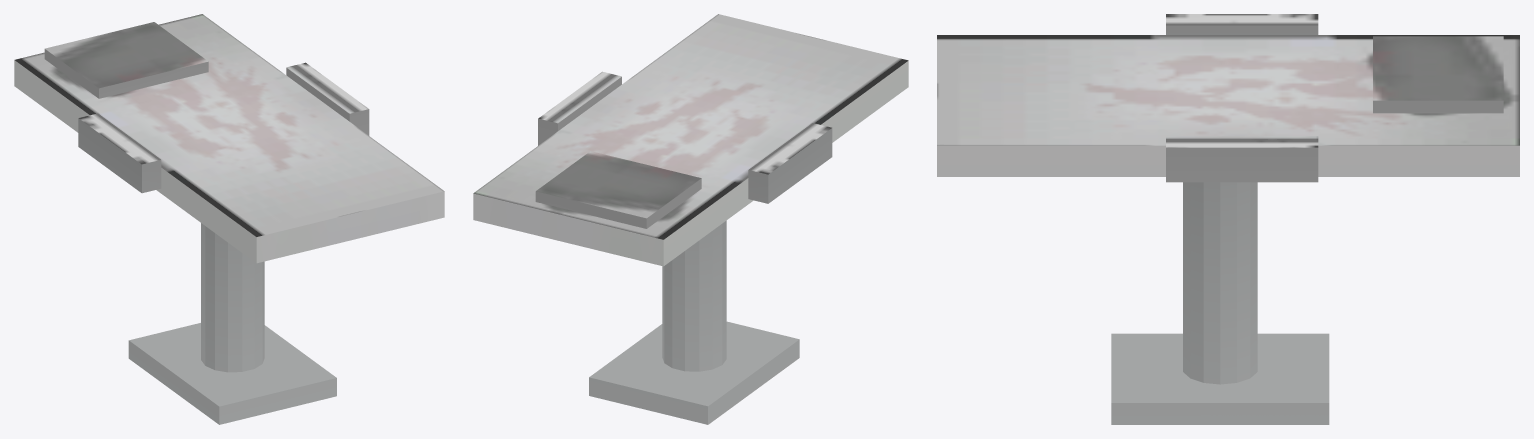
File: Building_AncientOperatingTable.glb
3 views of the same model, side by side, from view 1: azimuth 30°, elevation 25°; view 2: azimuth 150°, elevation 25°; view 3: azimuth 270°, elevation 25° (orthographic). The views are drawn at different scales.
Visible parts, largest first — view 1: AncientOperatingTable; view 2: AncientOperatingTable; view 3: AncientOperatingTable.
Boxes of the visible parts, x1=… form: AncientOperatingTable: x1=14, y1=14, x2=444, y2=424; AncientOperatingTable: x1=473, y1=14, x2=908, y2=424; AncientOperatingTable: x1=937, y1=14, x2=1519, y2=424.
Bounding box in the file's own units: 0.9062 × 0.99 × 1.67.
1 material, 1 textured.
